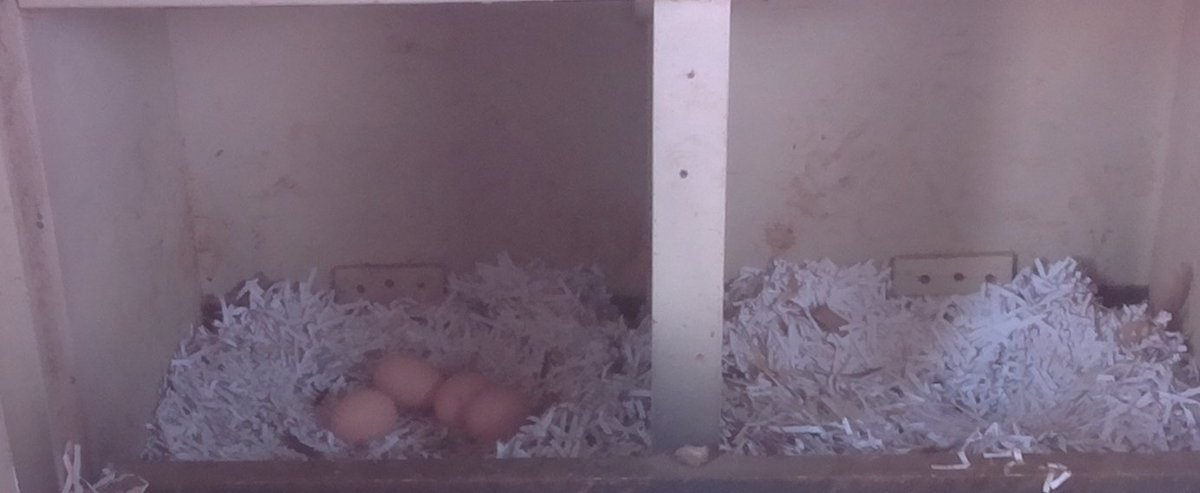egg: (326, 379, 405, 450), (462, 379, 536, 443), (368, 353, 448, 412), (430, 368, 493, 430)
